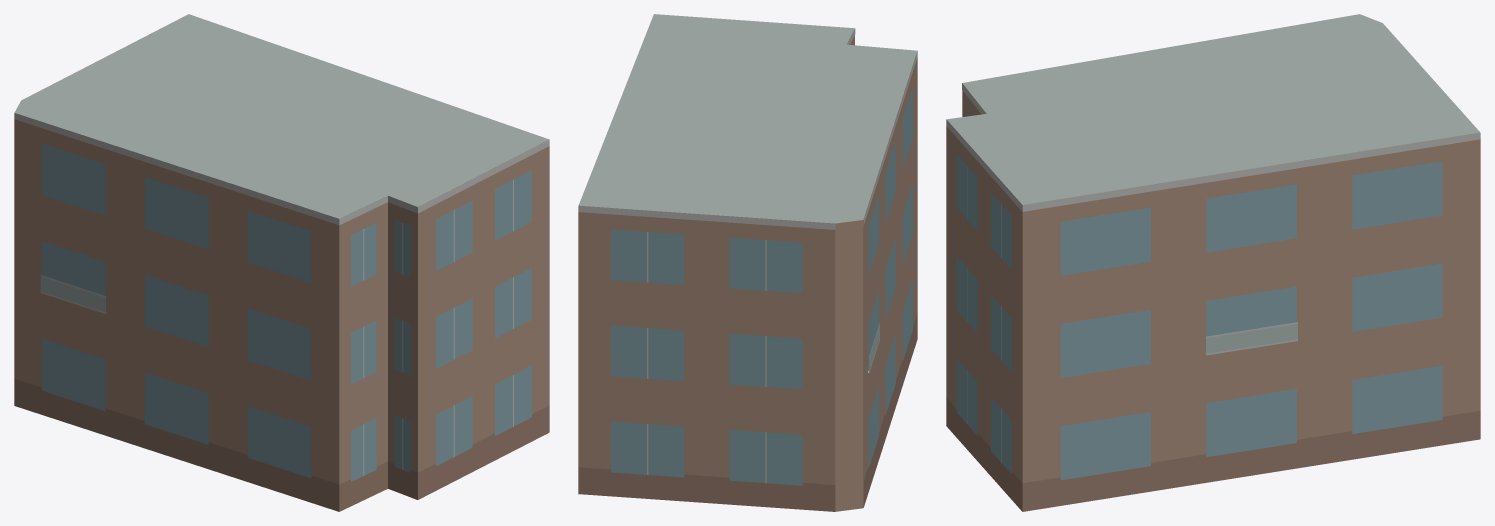
The model's file is survey-upis-32509781.glb.
3 renders of one model, left to right at view 1: azimuth 30°, elevation 25°; view 2: azimuth 150°, elevation 25°; view 3: azimuth 270°, elevation 25°, orthographic. The views are drawn at different scales.
Parts seen in each view (by area): view 1: survey-upis-32509781.tmp; view 2: survey-upis-32509781.tmp; view 3: survey-upis-32509781.tmp.
Boxes of the visible parts, left/top/right/bottom form: survey-upis-32509781.tmp: left=14, top=14, right=549, bottom=511; survey-upis-32509781.tmp: left=578, top=14, right=917, bottom=511; survey-upis-32509781.tmp: left=946, top=14, right=1480, bottom=511.
Bounding box in the file's own units: 14.71 × 11 × 17.37.
